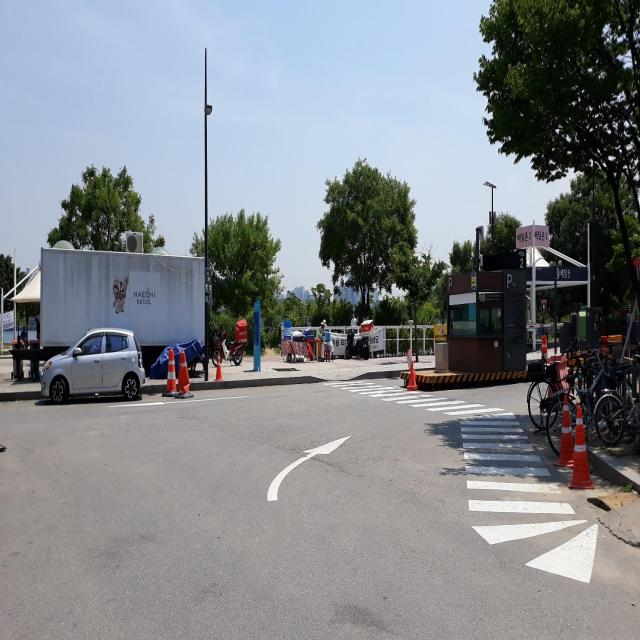횡단보도: (322, 376, 601, 589)
